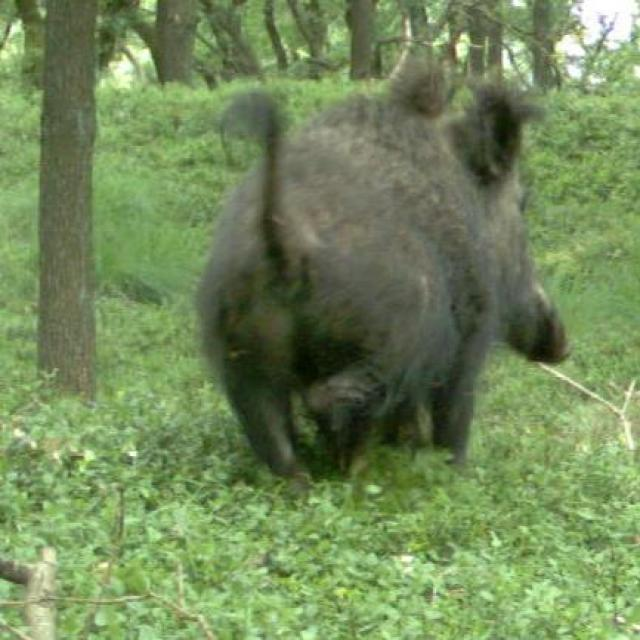pig: (192, 50, 640, 476)
